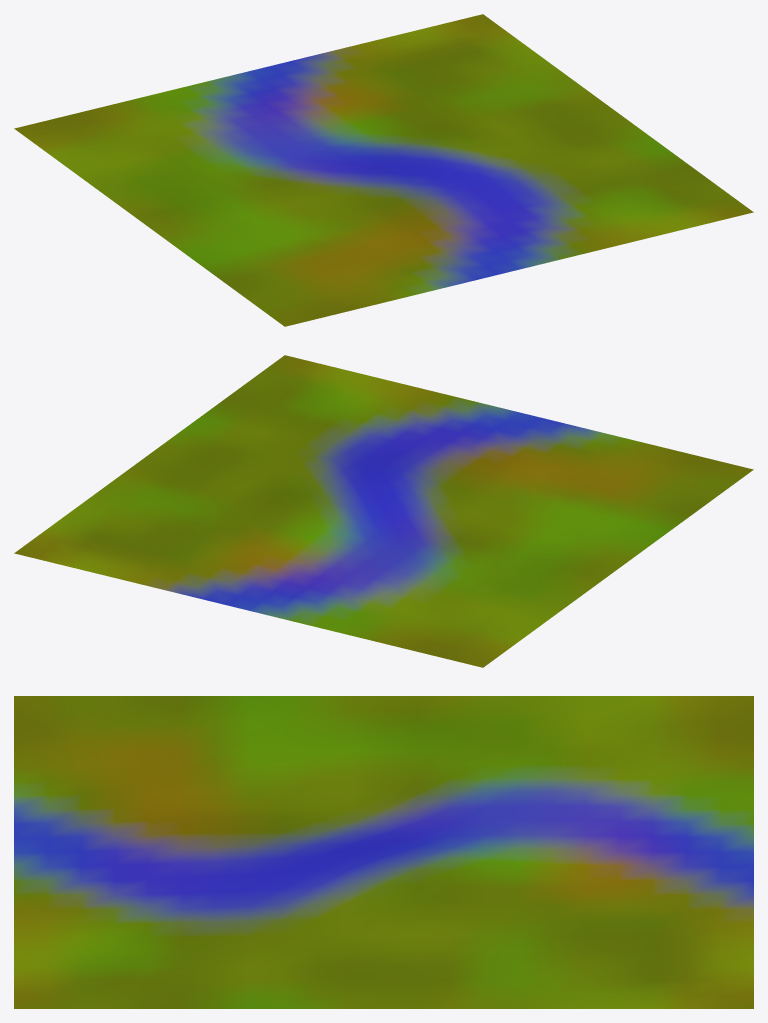
File: terrain_chunk_16m_vertexpaint_lod1.glb
The picture shows the model from 3 angles, top to bottom: view 1: azimuth 30°, elevation 25°; view 2: azimuth 150°, elevation 25°; view 3: azimuth 270°, elevation 25°; orthographic projection. The views are drawn at different scales.
Visible parts, largest first — view 1: terrain_chunk_16m_vertexpaint_lod1; view 2: terrain_chunk_16m_vertexpaint_lod1; view 3: terrain_chunk_16m_vertexpaint_lod1.
Part boxes in pixels (x1=…): terrain_chunk_16m_vertexpaint_lod1: x1=14, y1=14, x2=753, y2=326; terrain_chunk_16m_vertexpaint_lod1: x1=14, y1=355, x2=753, y2=667; terrain_chunk_16m_vertexpaint_lod1: x1=14, y1=696, x2=753, y2=1008.
Bounding box in the file's own units: 16 × 0.2806 × 16.
